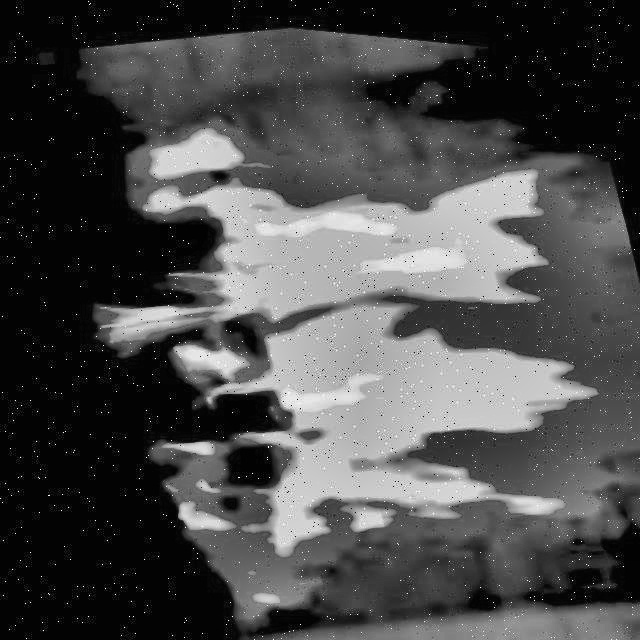Fire: (34, 26, 640, 640)
